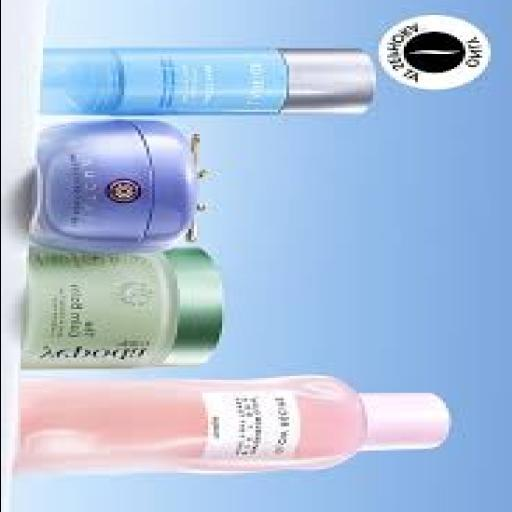blue-bottle: (42, 48, 375, 115)
